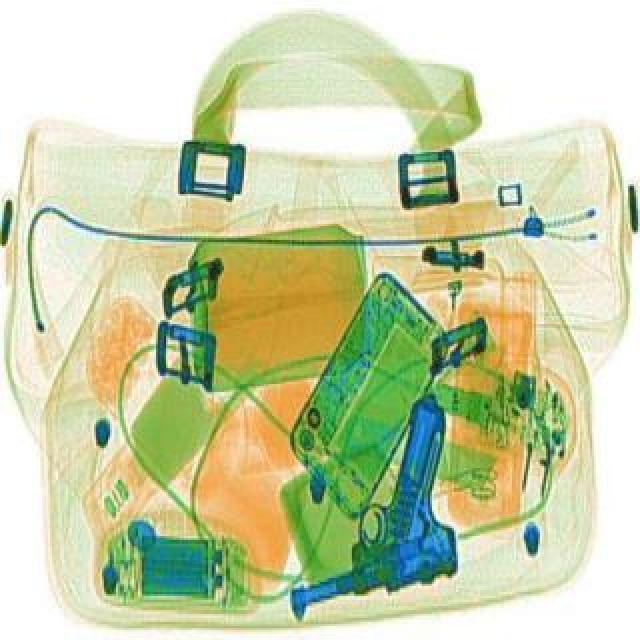gun: (240, 398, 488, 616)
